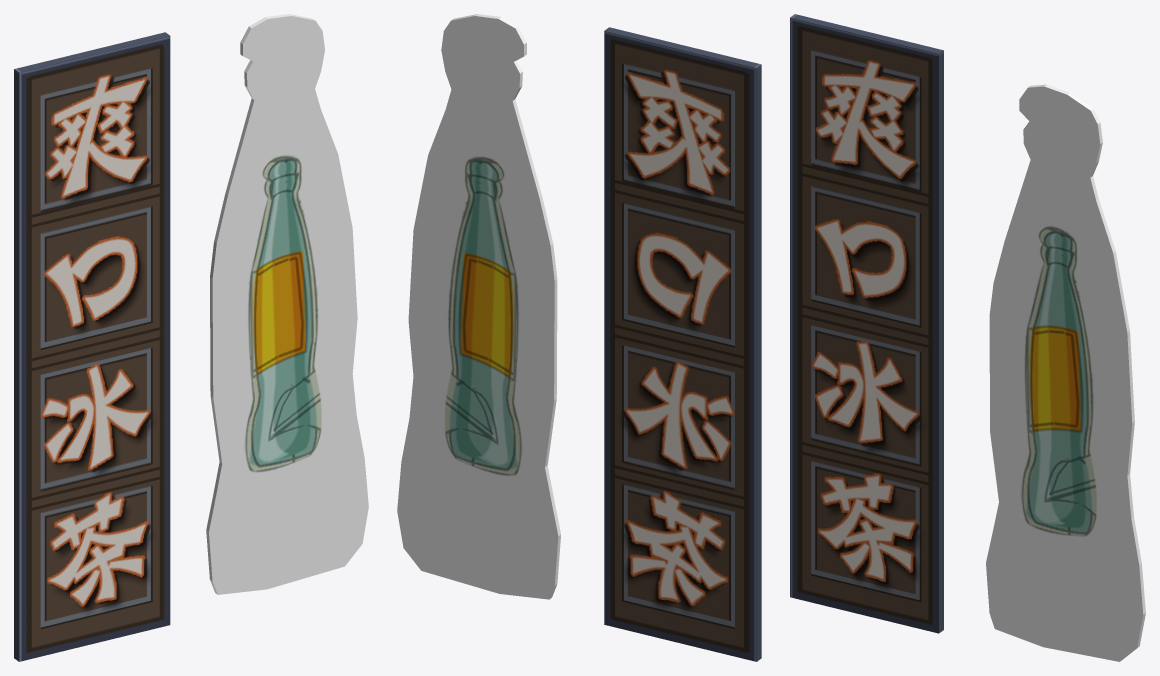
The model's file is bingcha.fbx.
3 views of the same model, side by side, from view 1: azimuth 30°, elevation 25°; view 2: azimuth 150°, elevation 25°; view 3: azimuth 330°, elevation 25° (orthographic). The views are drawn at different scales.
Visible parts, largest first — view 1: bingcha; view 2: bingcha; view 3: bingcha.
Boxes of the visible parts, x1,y1,x2,y2 form: bingcha: [14, 14, 368, 661]; bingcha: [397, 14, 761, 661]; bingcha: [790, 14, 1145, 661].
Size of the model in its own units: 3.54 by 5.62 by 0.1272.
Materials: 2 (2 with a texture image).
